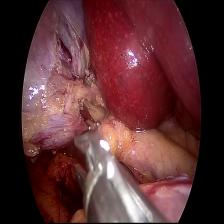Clipper: (66, 130, 118, 200)
